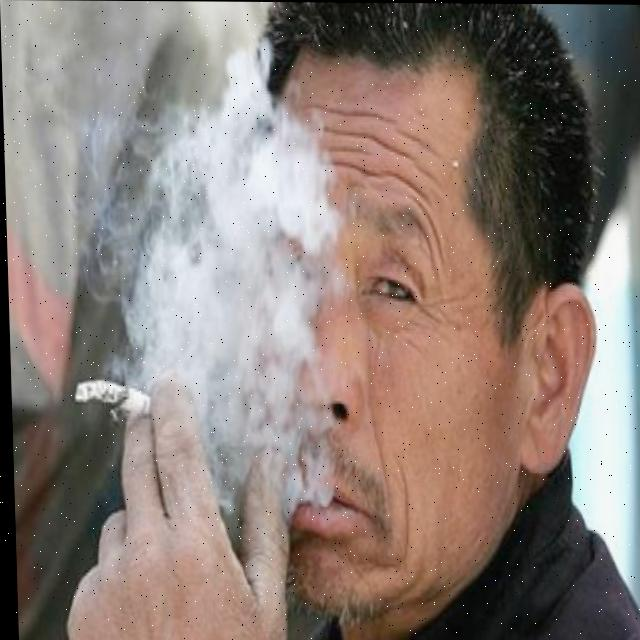cigarette: (70, 377, 149, 420)
